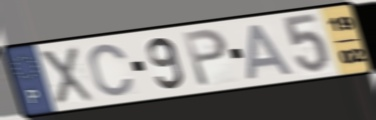5: (279, 11, 332, 76)
9: (147, 36, 185, 90)
A: (246, 21, 298, 82)
C: (86, 41, 136, 98)
P: (180, 26, 230, 89)
X: (37, 45, 97, 106)
